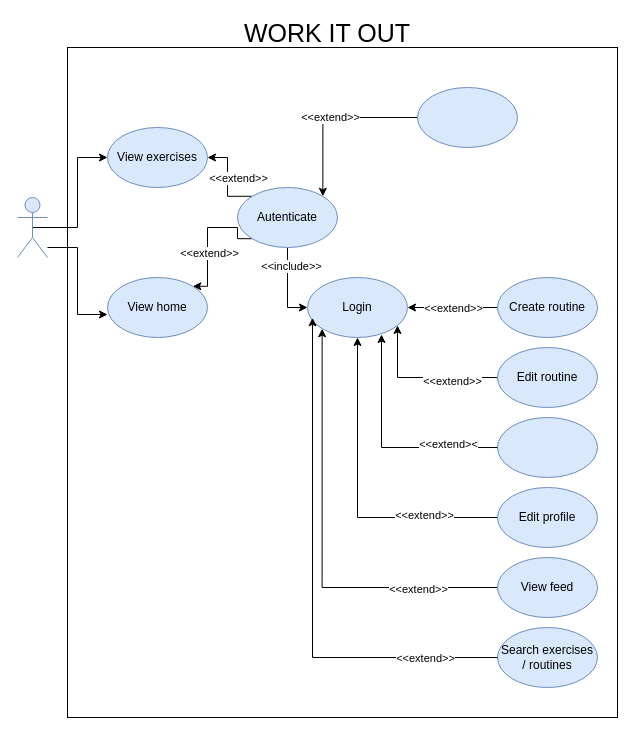
Image size: 635x735. Some labels were removed from this diagram. The centre of each missing label's shape, as x and y in pixels:
"Add routine to calendar" belongs at (x=547, y=447).
"Register" belongs at (x=467, y=117).
"User" belongs at (x=32, y=227).
